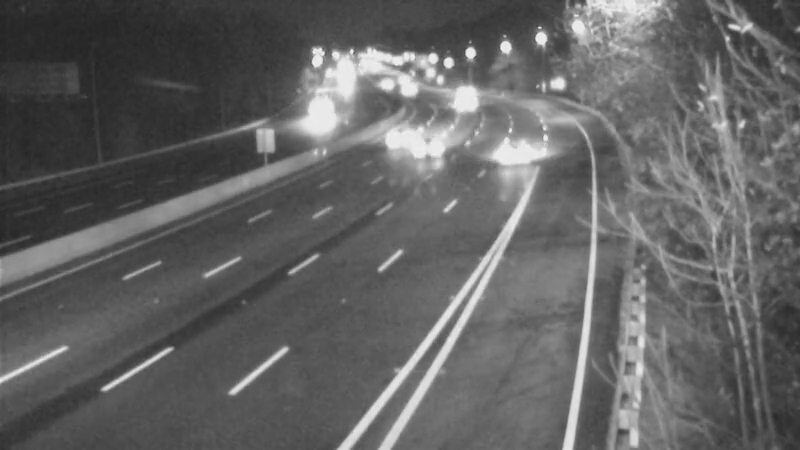vehicle: (432, 79, 482, 129), (373, 102, 423, 152), (397, 124, 447, 174), (486, 112, 536, 162), (292, 92, 342, 142)
